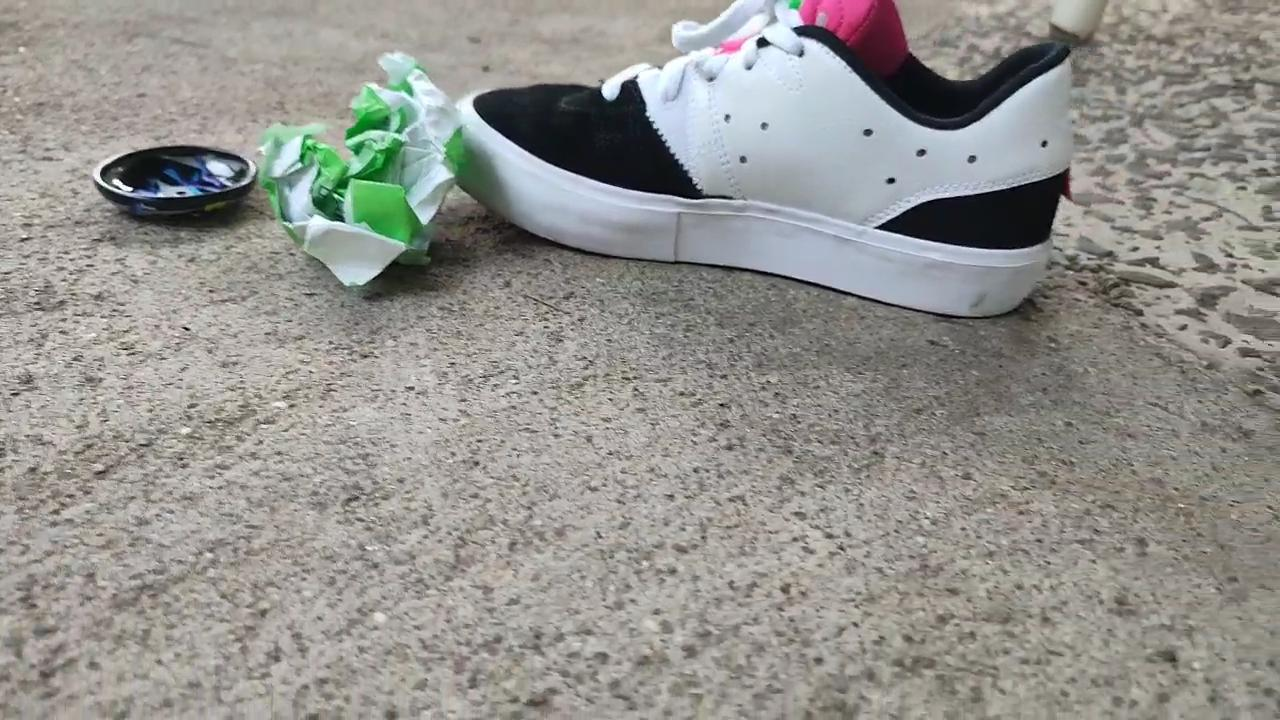Paper: (247, 28, 458, 294)
